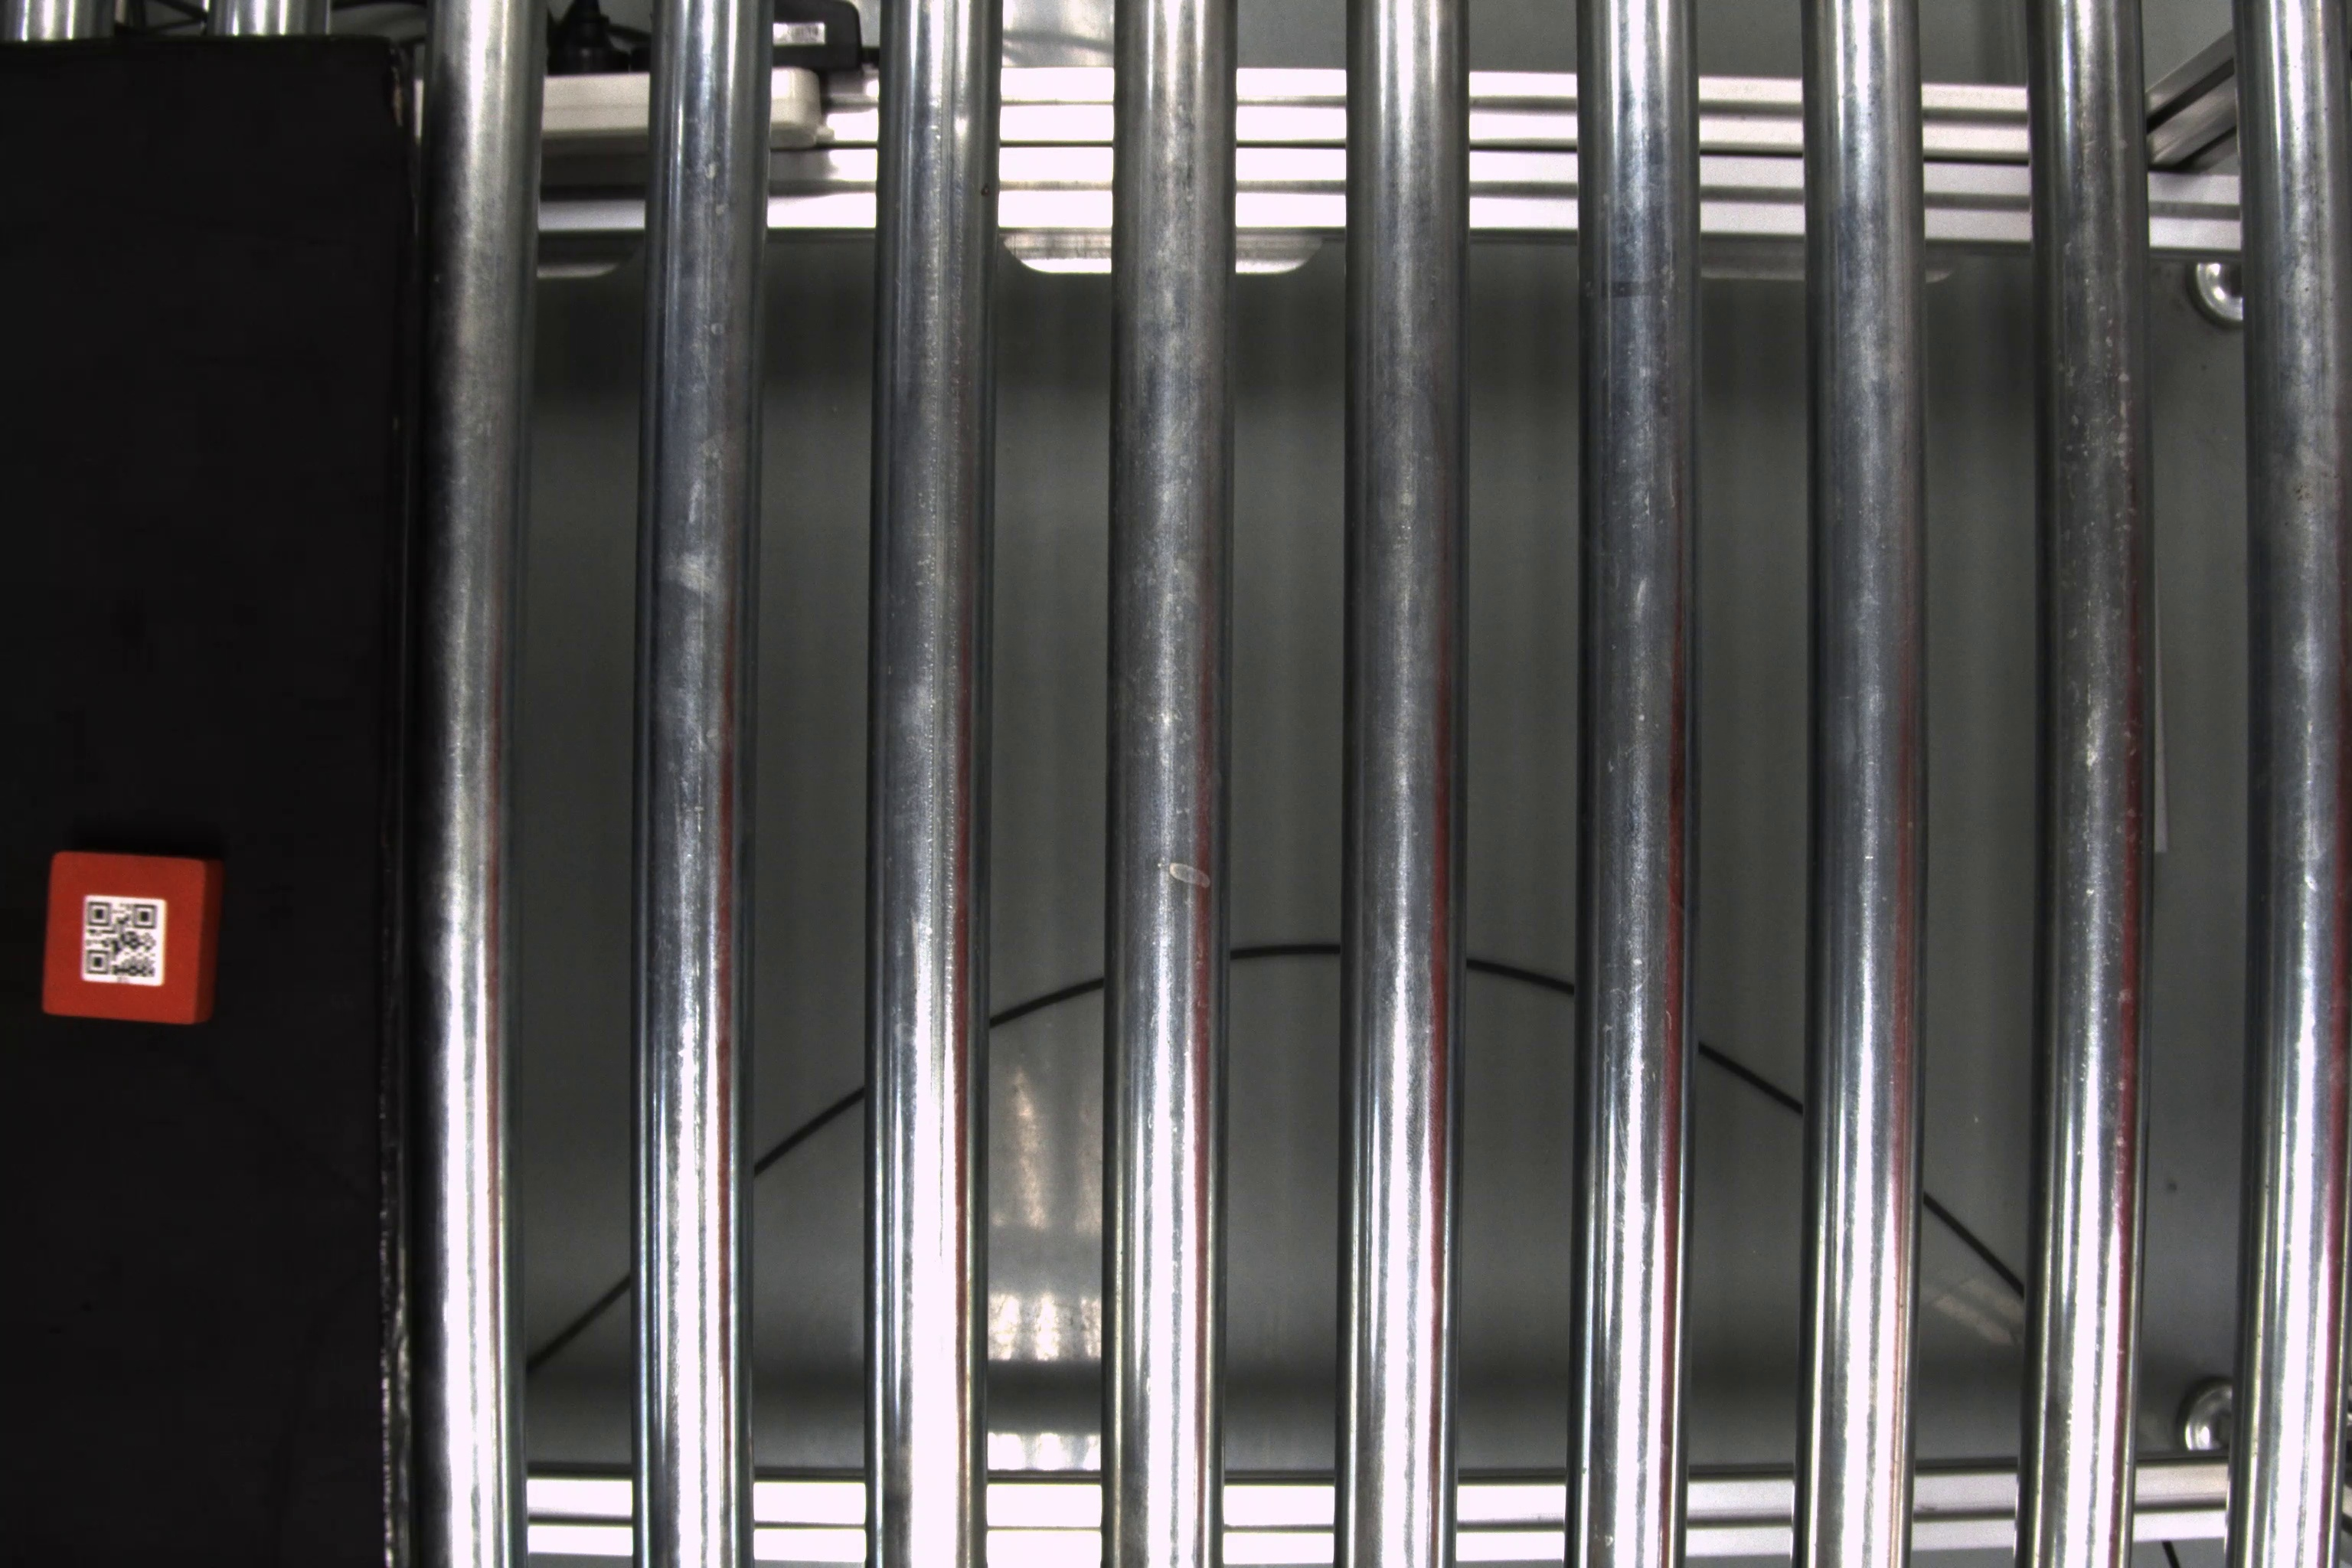wood: (38, 847, 227, 1031)
